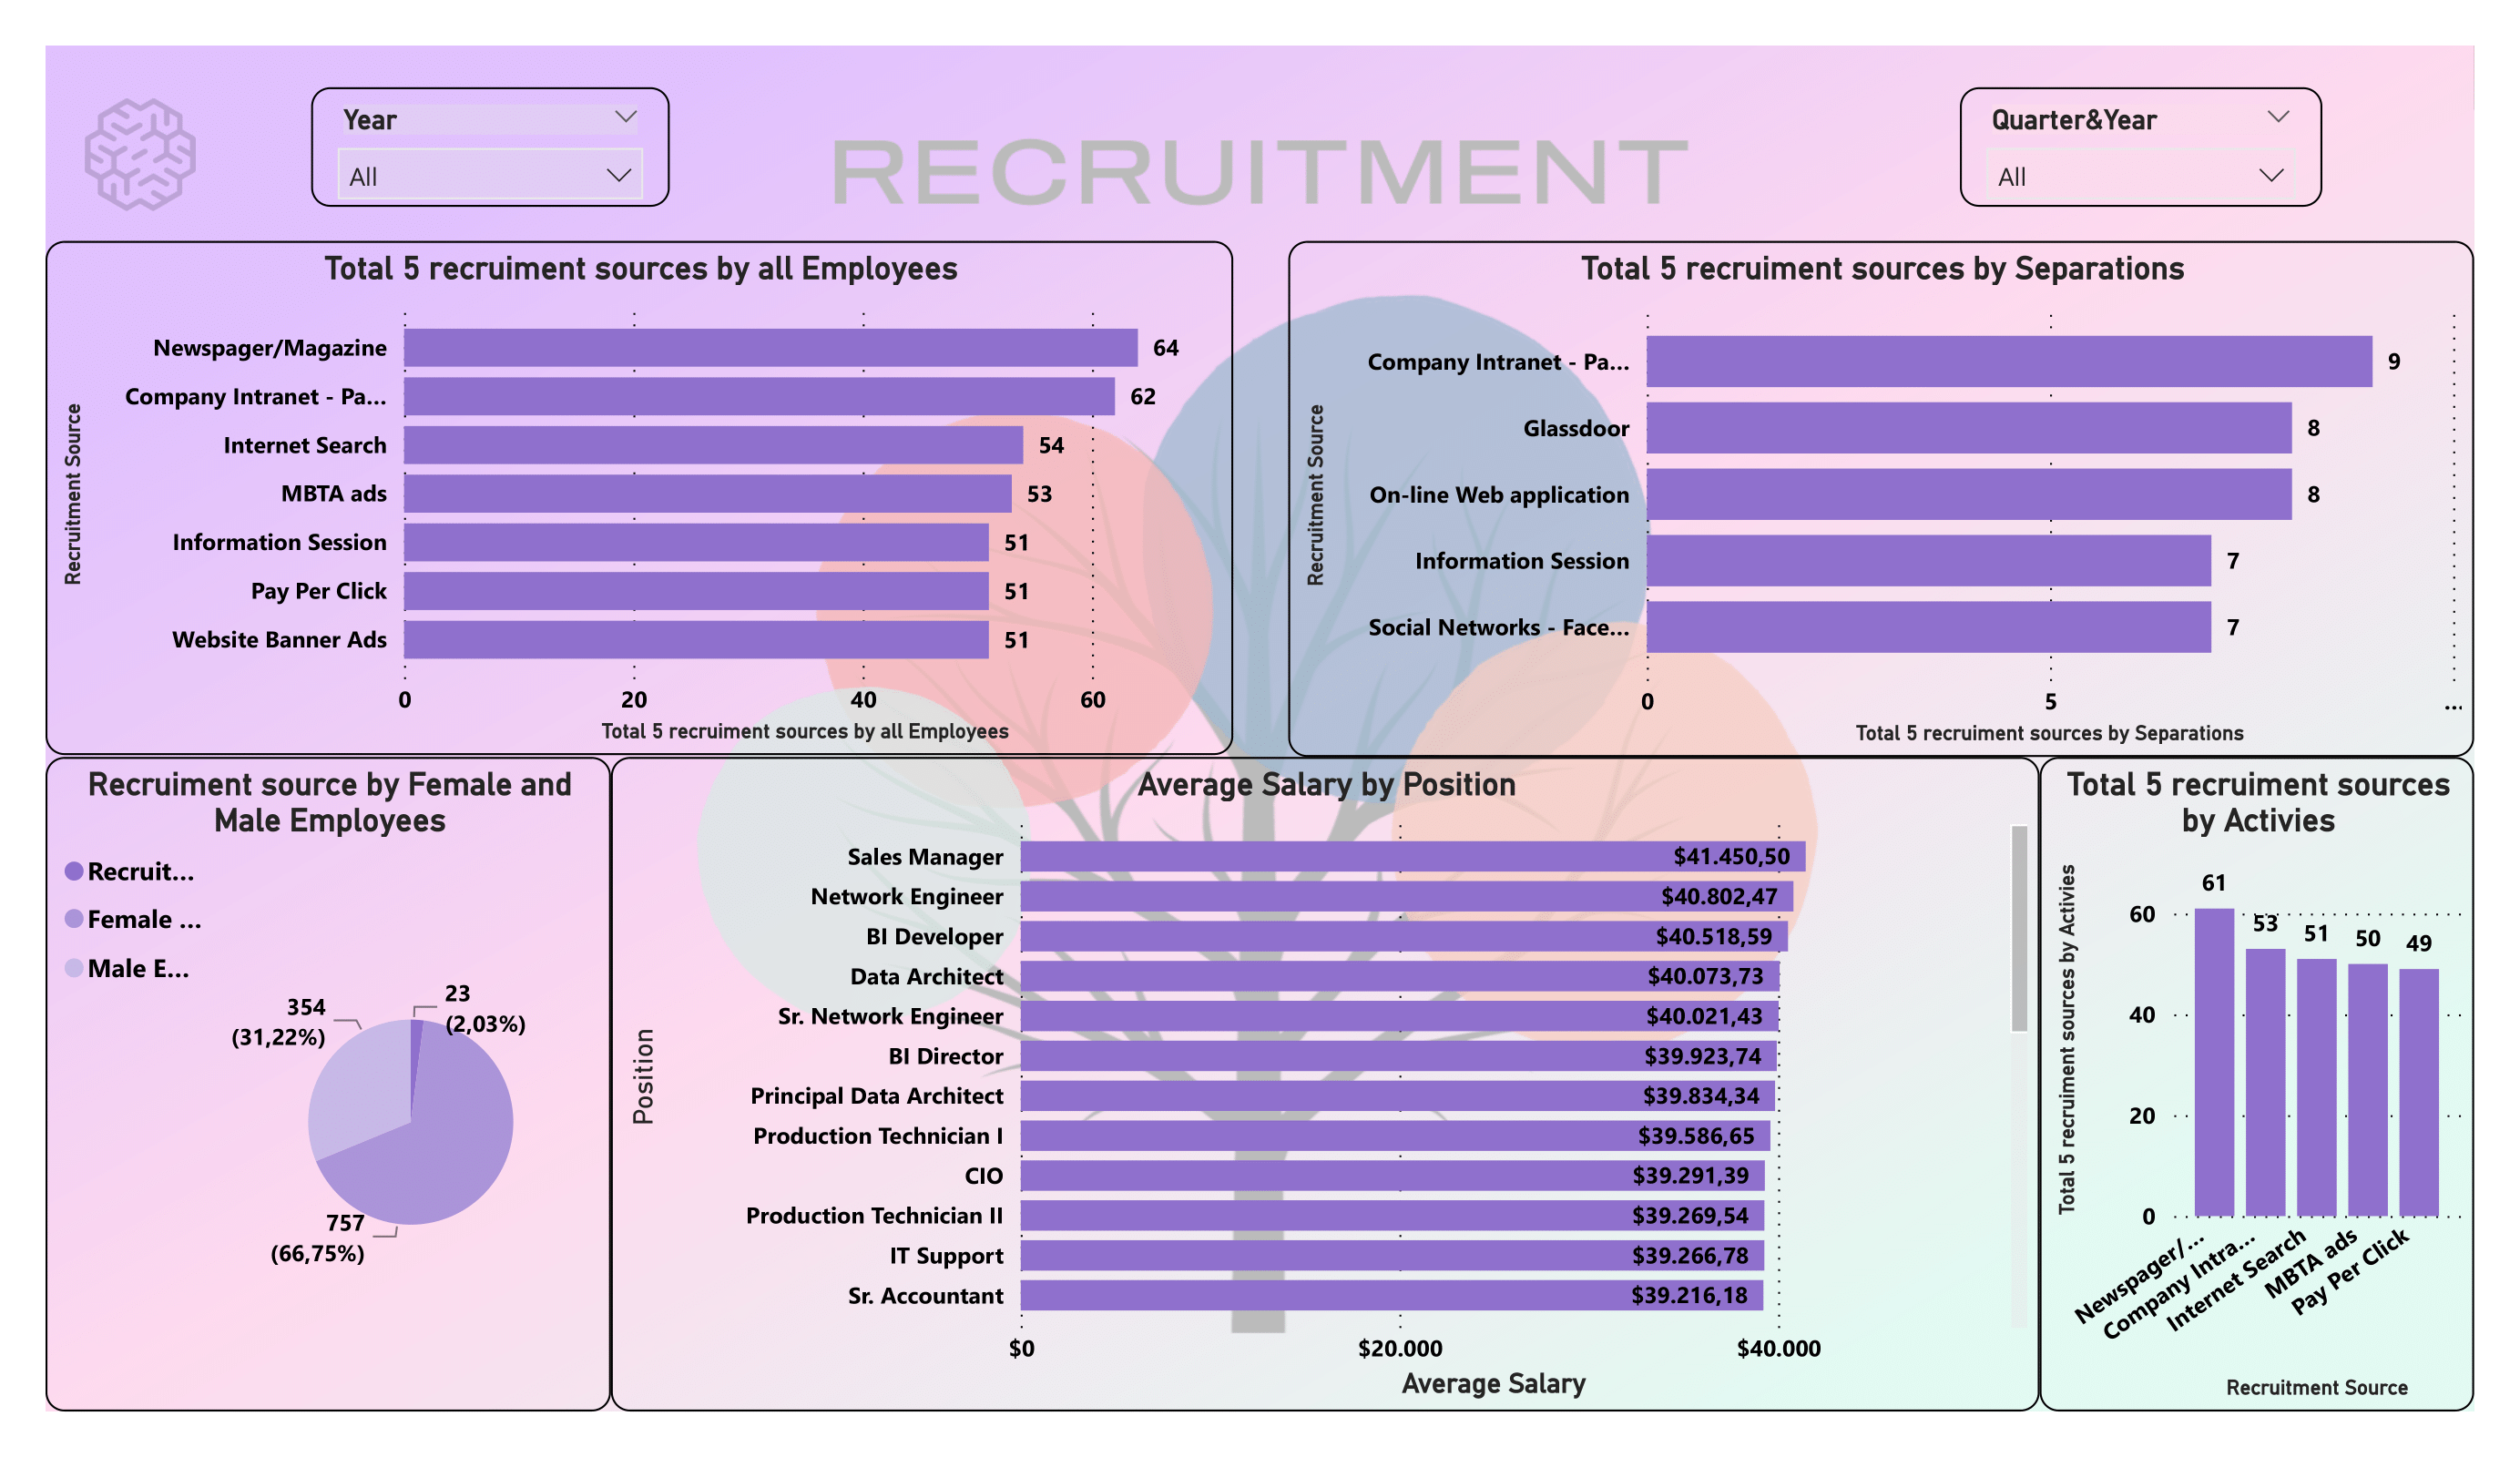

Layout of this report page (visuals, bound fields, positions):
{"tool":"powerbi","page":{"name":" RECRUITMENT 2","canvas":[1280,720],"ordinal":9},"visuals":[{"type":"image","box":[15.4,22.7,69,69],"z":0},{"type":"barChart","title":"Total 5 recruiment sources by all Employees","fields":{"Category":["RecruitmentSource.RecruitmentSource"],"Y":["4.RecruitmentKeyMeasures.Total 5 recruiment sources by all Employees"]},"box":[0,103.1,626.4,271.4],"z":1000},{"type":"slicer","fields":{"Values":["Calendar.Year"]},"box":[139.7,22.3,189.2,63.1],"z":2000},{"type":"slicer","fields":{"Values":["Calendar.QuarterInCalendar"]},"box":[1009.2,22.3,190.5,63.1],"z":3000},{"type":"lineStackedColumnComboChart","title":"Total 5 recruiment sources by Activies ","fields":{"Y":["4.RecruitmentKeyMeasures.Total 5 recruiment sources by Activies"],"Category":["RecruitmentSource.RecruitmentSource"]},"box":[1051.3,374.8,228.7,345.6],"z":4000},{"type":"barChart","title":"Total 5 recruiment sources by Separations","fields":{"Category":["RecruitmentSource.RecruitmentSource"],"Y":["4.RecruitmentKeyMeasures.Total 5 recruiment sources by Separations"]},"box":[654.9,102.7,625.1,272.4],"z":5000},{"type":"barChart","fields":{"Y":["4.RecruitmentKeyMeasures.Average Salary by Positon"],"Category":["Position.Position"]},"box":[298.1,374.8,753.2,345.6],"z":6000},{"type":"pieChart","title":"Recruiment source by Female and Male Employees","fields":{"Y":["Count(RecruitmentSource.RecruitmentSource)","1.DepartmentKeyMeasures.Number of Female Employees","1.DepartmentKeyMeasures.Number of Male Employees"]},"box":[0,374.8,298.1,345.6],"z":7000}]}

Visuals, with their boxes on the page's 1280x720 design canvas (x1, y1, x2, y2). These are canvas units, not pixel positions in the 2520x1457 screenshot, which may show the page scaled, cropped or inside an application window:
image: pyautogui.locateOnScreen(15, 23, 84, 92)
"Total 5 recruiment sources by all Employees" barChart: pyautogui.locateOnScreen(0, 103, 626, 374)
slicer - Calendar.Year: pyautogui.locateOnScreen(140, 22, 329, 85)
slicer - Calendar.QuarterInCalendar: pyautogui.locateOnScreen(1009, 22, 1200, 85)
"Total 5 recruiment sources by Activies " lineStackedColumnComboChart: pyautogui.locateOnScreen(1051, 375, 1280, 720)
"Total 5 recruiment sources by Separations" barChart: pyautogui.locateOnScreen(655, 103, 1280, 375)
barChart - 4.RecruitmentKeyMeasures.Average Salary by Positon x Position.Position: pyautogui.locateOnScreen(298, 375, 1051, 720)
"Recruiment source by Female and Male Employees" pieChart: pyautogui.locateOnScreen(0, 375, 298, 720)
